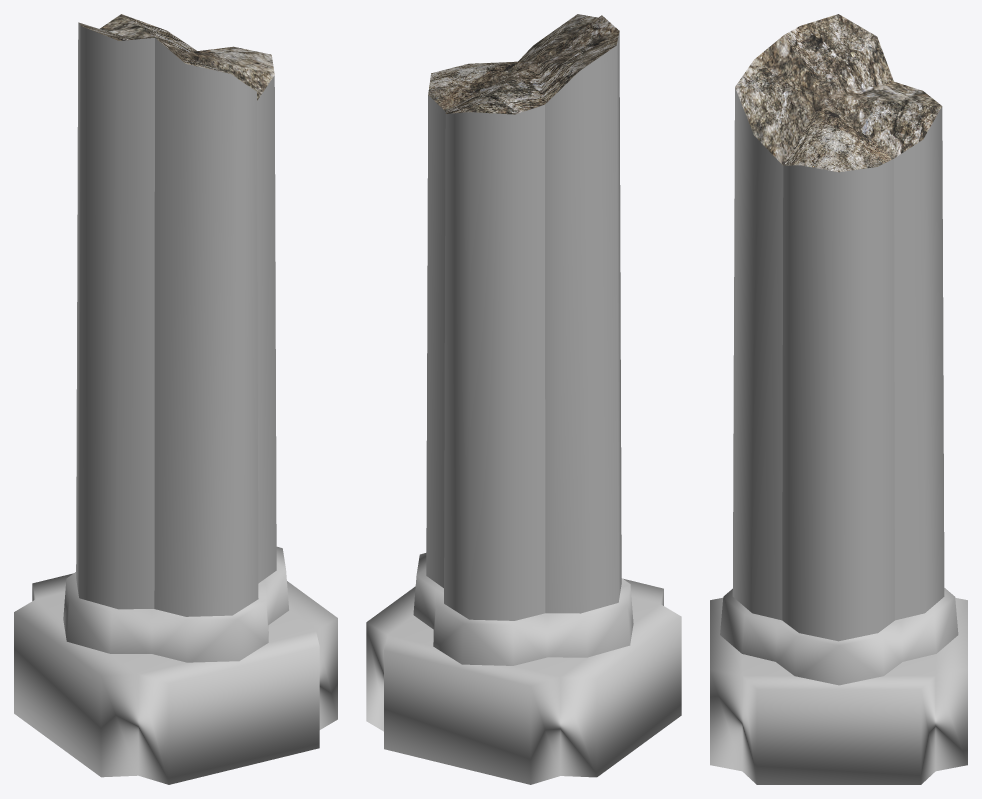
File: Ruins_17B_LOD1.fbx
The picture shows the model from 3 angles, left to right: view 1: azimuth 30°, elevation 25°; view 2: azimuth 150°, elevation 25°; view 3: azimuth 270°, elevation 25°; orthographic projection. The views are drawn at different scales.
Parts seen in each view (by area): view 1: polySurface5351; view 2: polySurface5351; view 3: polySurface5351.
Part boxes in pixels (box(x1,y1,x2,y2)): polySurface5351: box(14, 14, 337, 784); polySurface5351: box(366, 14, 681, 784); polySurface5351: box(710, 14, 967, 784).
Size of the model in its own units: 1.05 by 3.02 by 1.05.
